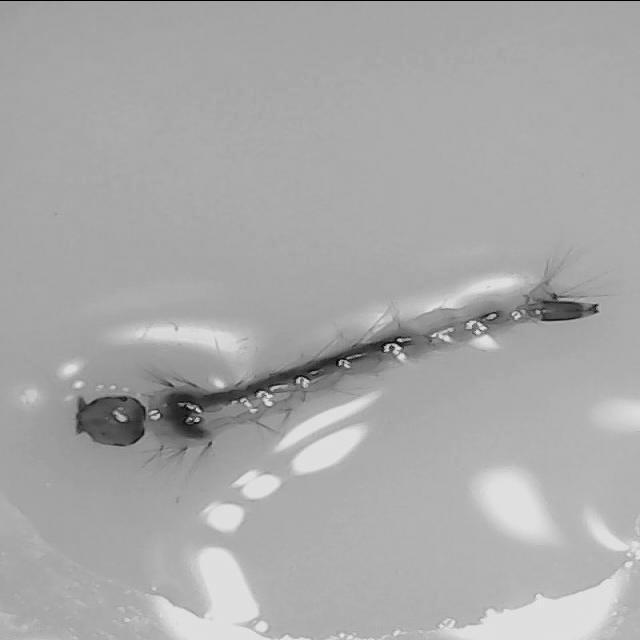larvas: (75, 277, 600, 448)
